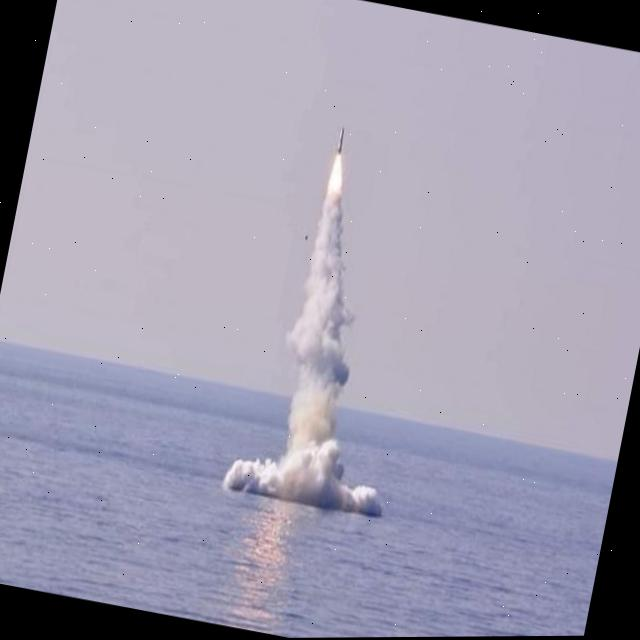missile: (326, 121, 359, 163)
